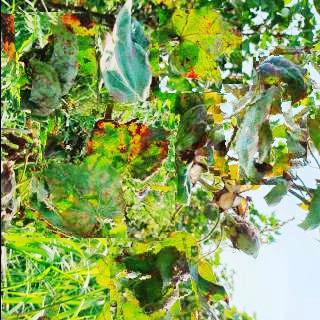blight: (29, 93, 174, 238), (5, 15, 97, 109), (213, 92, 299, 179), (109, 238, 197, 320), (158, 9, 241, 93), (257, 49, 320, 115)
